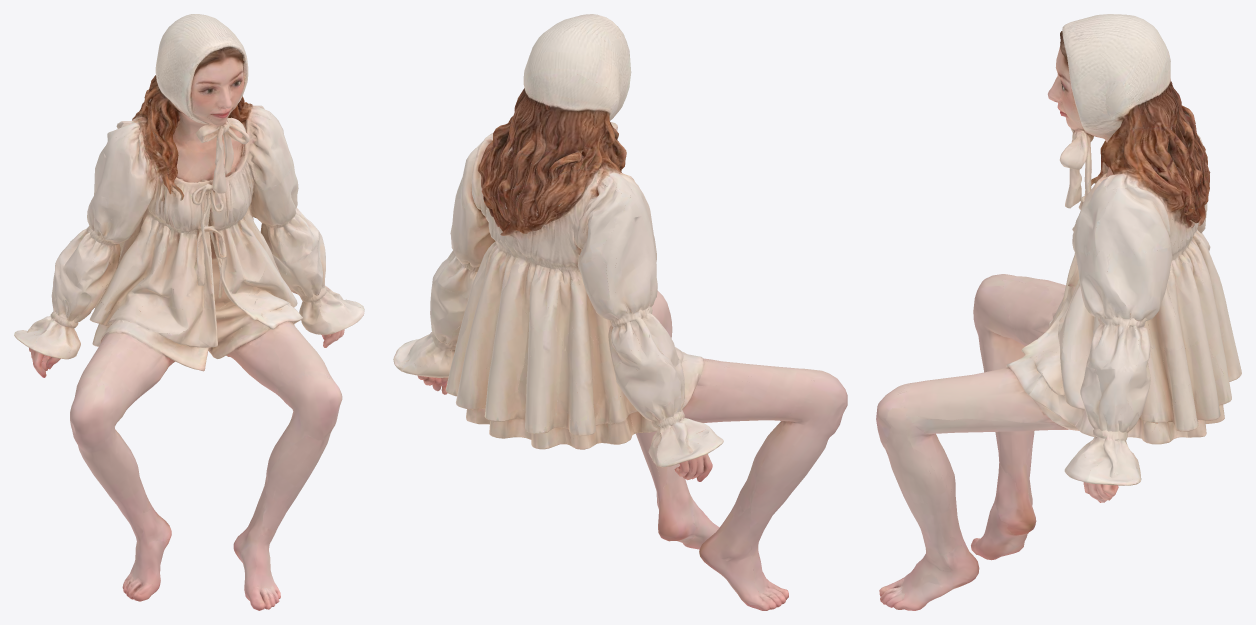
Rendered from SUP_woman_seated_v15.glb.
3 views of the same model, side by side, from view 1: azimuth 30°, elevation 25°; view 2: azimuth 150°, elevation 25°; view 3: azimuth 270°, elevation 25° (orthographic). The views are drawn at different scales.
Parts seen in each view (by area): view 1: SUP_woman_seated_v15; view 2: SUP_woman_seated_v15; view 3: SUP_woman_seated_v15.
Boxes of the visible parts, x1,y1,x2,y2 form: SUP_woman_seated_v15: [14, 14, 364, 610]; SUP_woman_seated_v15: [393, 14, 847, 610]; SUP_woman_seated_v15: [876, 14, 1241, 610].
Bounding box in the file's own units: 0.688 × 1 × 0.5491.
Materials: 1 (1 with a texture image).
